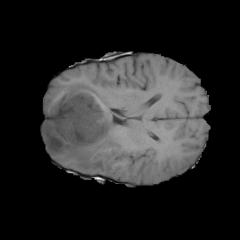glioma: (43, 82, 124, 172)
